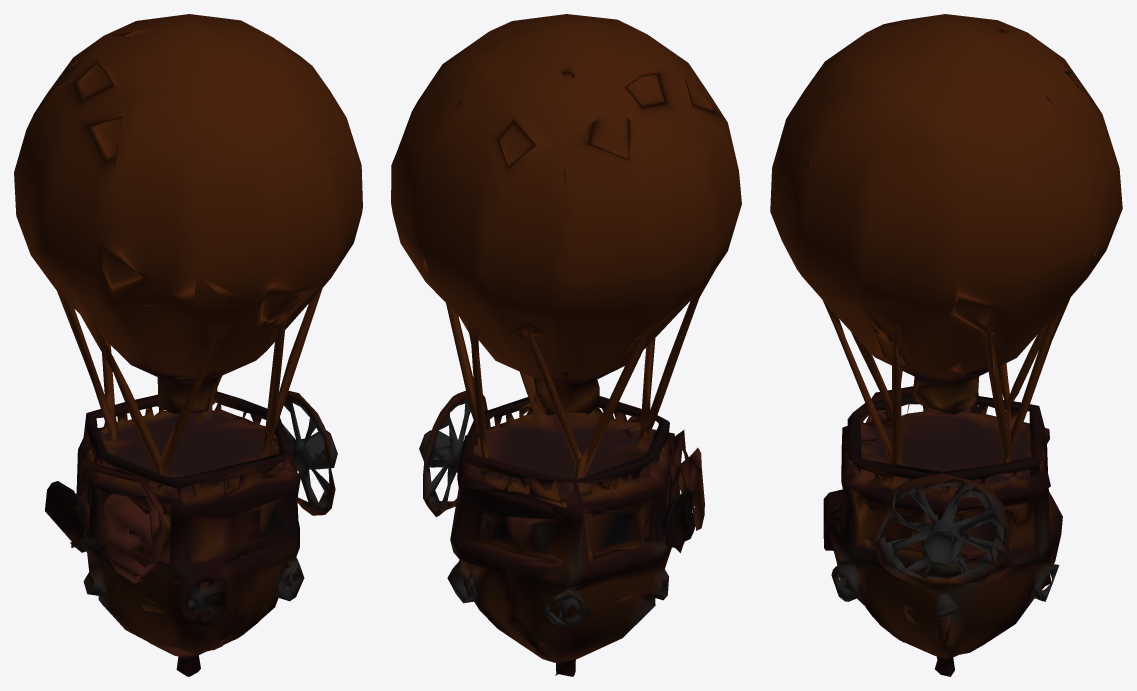
Rendered from gen3d-airship-lod0.glb.
3 renders of one model, left to right at view 1: azimuth 30°, elevation 25°; view 2: azimuth 150°, elevation 25°; view 3: azimuth 270°, elevation 25°, orthographic.
Visible parts, largest first — view 1: part_0; view 2: part_0; view 3: part_0.
Part boxes in pixels (bbox=[...]): part_0: bbox=[14, 14, 362, 676]; part_0: bbox=[391, 14, 741, 676]; part_0: bbox=[770, 14, 1122, 676].
Size of the model in its own units: 0.4906 by 0.9997 by 0.495.
